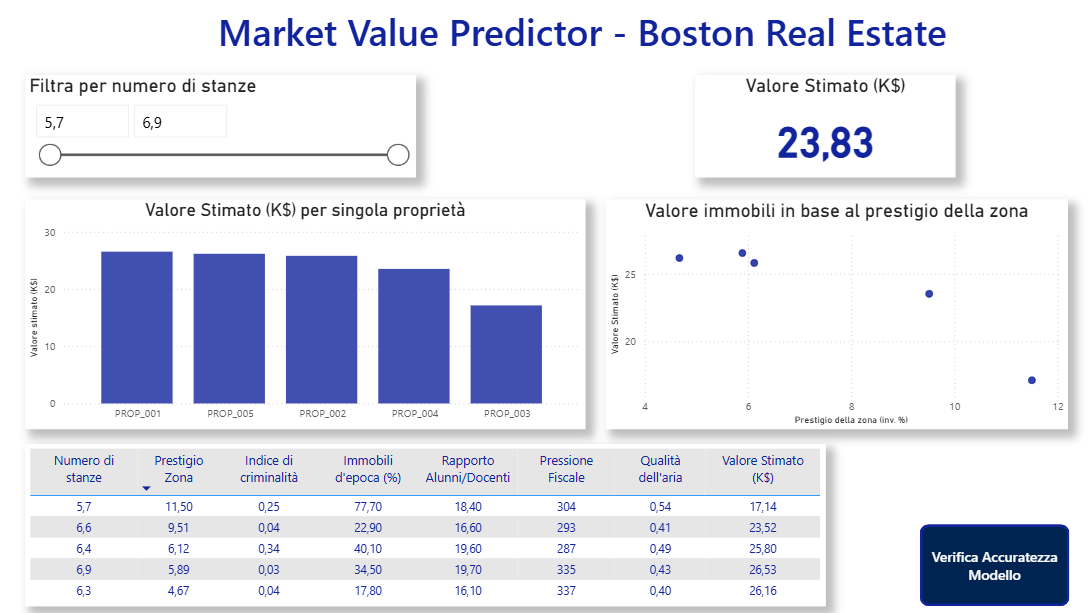

This screenshot's page, from the dashboard's own definition file:
{"tool":"powerbi","page":{"name":"Analisi Predittiva Mercato","canvas":[1280,720],"ordinal":0},"visuals":[{"type":"columnChart","title":"Valore Stimato (K$) per singola proprietà","fields":{"Category":["Sheet1.Property_ID"],"Y":["Sum(Sheet1.Valore_Stimato_K$)"]},"box":[36.3,239.3,645.2,264.8],"z":0},{"type":"slicer","title":"Filtra per numero di stanze","fields":{"Values":["Sheet1.RM"]},"box":[36.3,95.4,450.3,118.3],"z":1000},{"type":"card","title":"Valore Stimato (K$)","fields":{"Values":["Avg(Sheet1.Valore_Stimato_K$)"]},"box":[807.9,95.4,299.8,118.3],"z":2000},{"type":"scatterChart","title":"Valore immobili in base al prestigio della zona","fields":{"X":["Sheet1.LSTAT"],"Y":["Sheet1.Valore_Stimato_K$"]},"box":[705.7,239.3,532.3,264.8],"z":3000},{"type":"tableEx","fields":{"Values":["Sheet1.RM","Sheet1.LSTAT","Sheet1.CRIM","Sheet1.AGE","Sheet1.PTRATIO","Sum(Sheet1.TAX)","Sheet1.NOX","Sheet1.Valore_Stimato_K$"]},"box":[36.3,520.2,922.1,186.8],"z":4000},{"type":"textbox","box":[254.1,10.8,853.6,72.6],"z":5000},{"type":"actionButton","box":[1067.3,612.9,172.1,94.1],"z":6000}]}

Visuals, with their boxes in screenshot pixels (x1, y1, x2, y2), scaled from the page's 1280x720 canvas onto the 1091x613 screenshot:
"Valore Stimato (K$) per singola proprietà" columnChart: <bbox>31, 204, 581, 429</bbox>
"Filtra per numero di stanze" slicer: <bbox>31, 81, 415, 182</bbox>
"Valore Stimato (K$)" card: <bbox>689, 81, 944, 182</bbox>
"Valore immobili in base al prestigio della zona" scatterChart: <bbox>601, 204, 1055, 429</bbox>
tableEx - Sheet1.RM x Sheet1.LSTAT: <bbox>31, 443, 817, 602</bbox>
textbox: <bbox>217, 9, 944, 71</bbox>
actionButton: <bbox>910, 522, 1056, 602</bbox>
